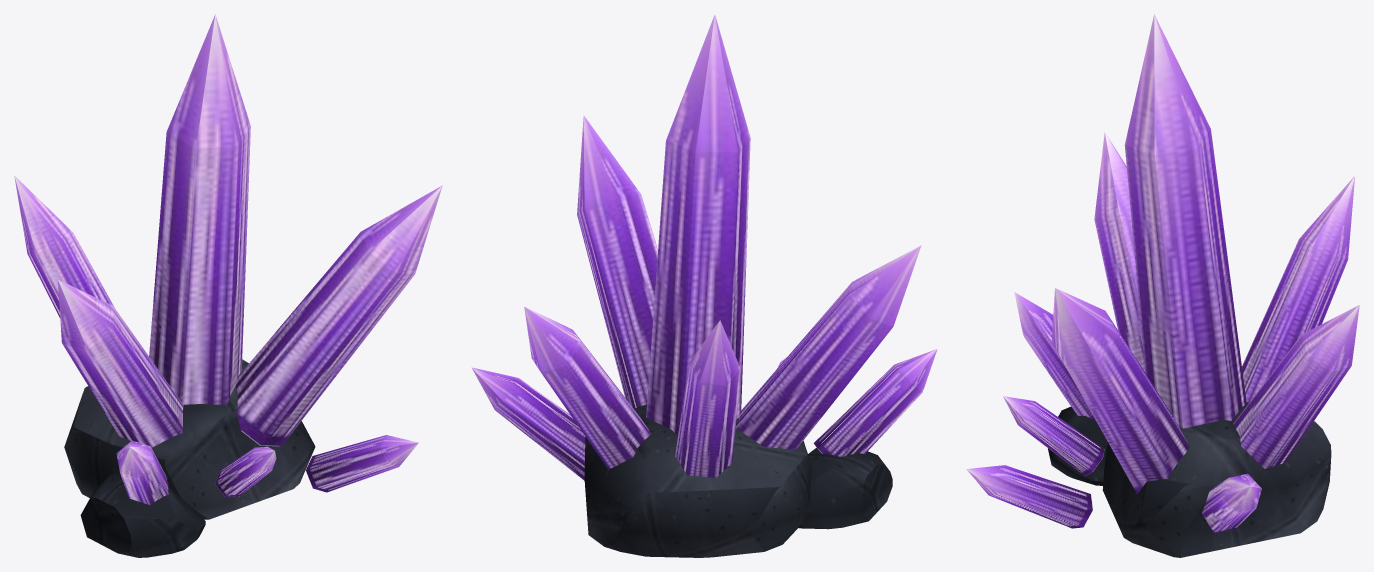
Rendered from cave_crystal_violet.glb.
The picture shows the model from 3 angles, left to right: view 1: azimuth 30°, elevation 25°; view 2: azimuth 150°, elevation 25°; view 3: azimuth 270°, elevation 25°; orthographic projection. The views are drawn at different scales.
Visible parts, largest first — view 1: cave_crystal_violet; view 2: cave_crystal_violet; view 3: cave_crystal_violet.
Boxes of the visible parts, x1,y1,x2,y2 form: cave_crystal_violet: (14,14,442,557); cave_crystal_violet: (471,14,937,557); cave_crystal_violet: (966,14,1359,557).
Size of the model in its own units: 1.33 by 1.61 by 1.17.
Materials: 2 (2 with a texture image).
